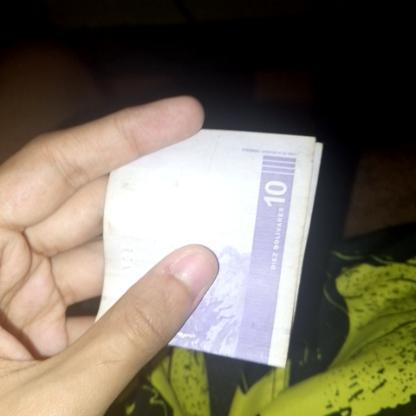ten-back-vef: (84, 124, 322, 368)
